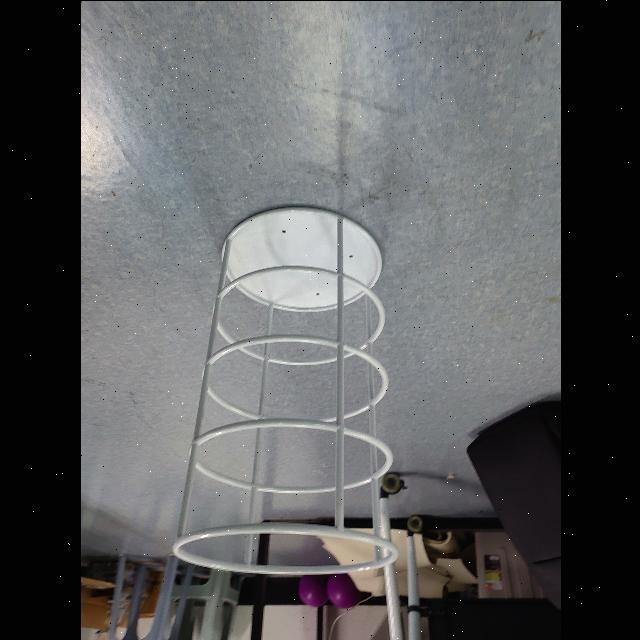S: (171, 203, 399, 577)
